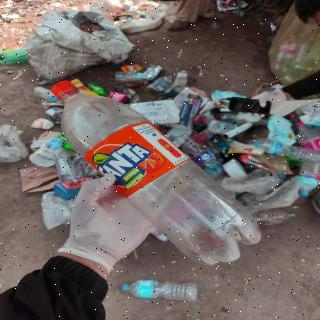Plastic-bottle: (50, 80, 267, 269), (122, 279, 202, 306), (254, 137, 320, 165)
